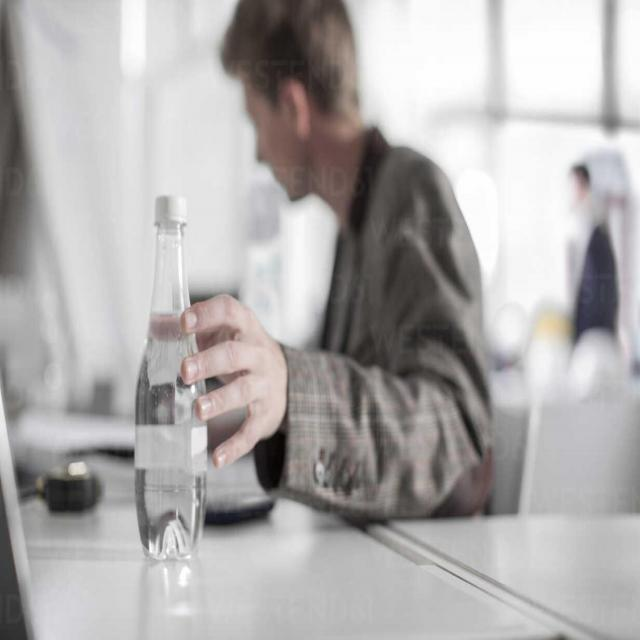bottle-glass: (130, 190, 211, 567)
